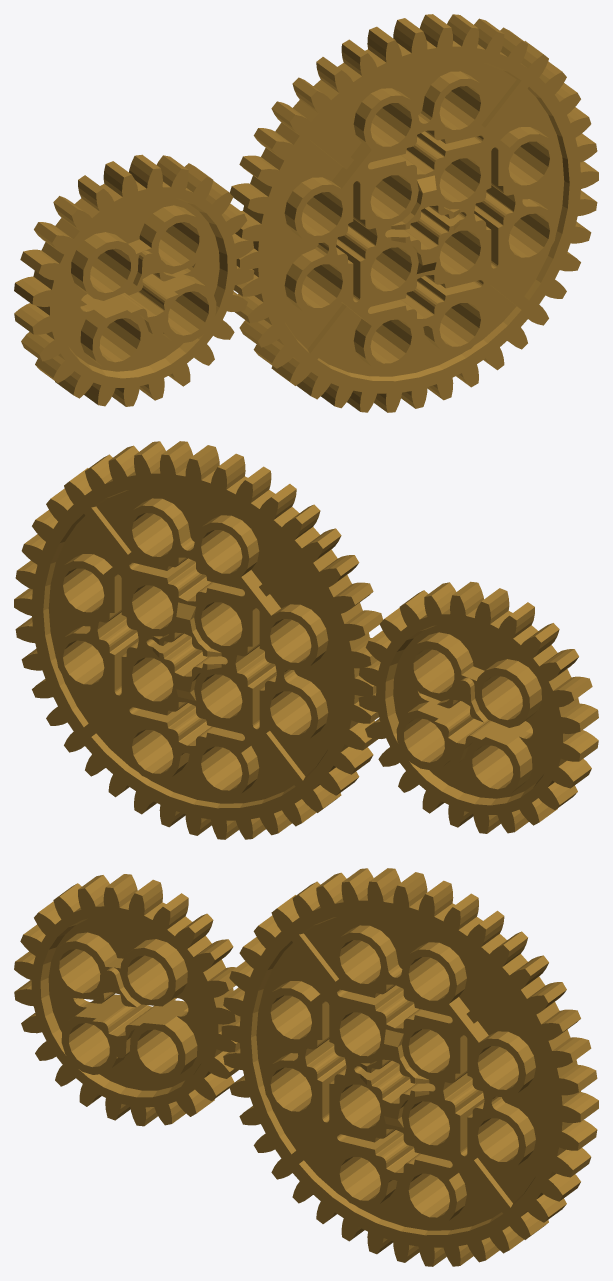
File: TwoGears.dae
The picture shows the model from 3 angles, top to bottom: view 1: azimuth 30°, elevation 25°; view 2: azimuth 150°, elevation 25°; view 3: azimuth 330°, elevation 25°; orthographic projection.
Parts seen in each view (by area): view 1: Part_3649.2, Part_3648.1; view 2: Part_3649.2, Part_3648.1; view 3: Part_3649.2, Part_3648.1.
Boxes of the visible parts, <box> form: Part_3649.2: <box>229,14,598,412</box>; Part_3648.1: <box>14,154,254,406</box>; Part_3649.2: <box>14,441,383,839</box>; Part_3648.1: <box>358,581,598,833</box>; Part_3649.2: <box>221,868,598,1266</box>; Part_3648.1: <box>14,874,240,1126</box>.
Size of the model in its own units: 65.65 by 41.59 by 7.8.
